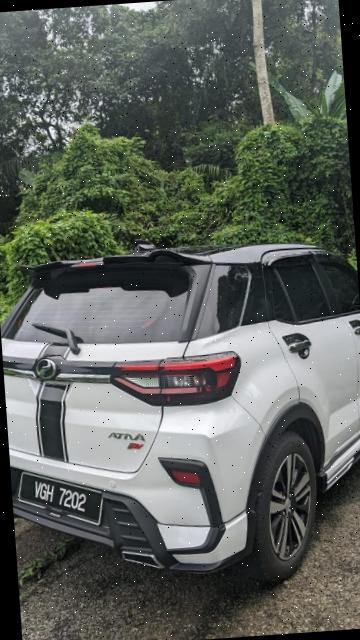License_Plate: (18, 466, 96, 523)
car: (1, 221, 360, 598)
